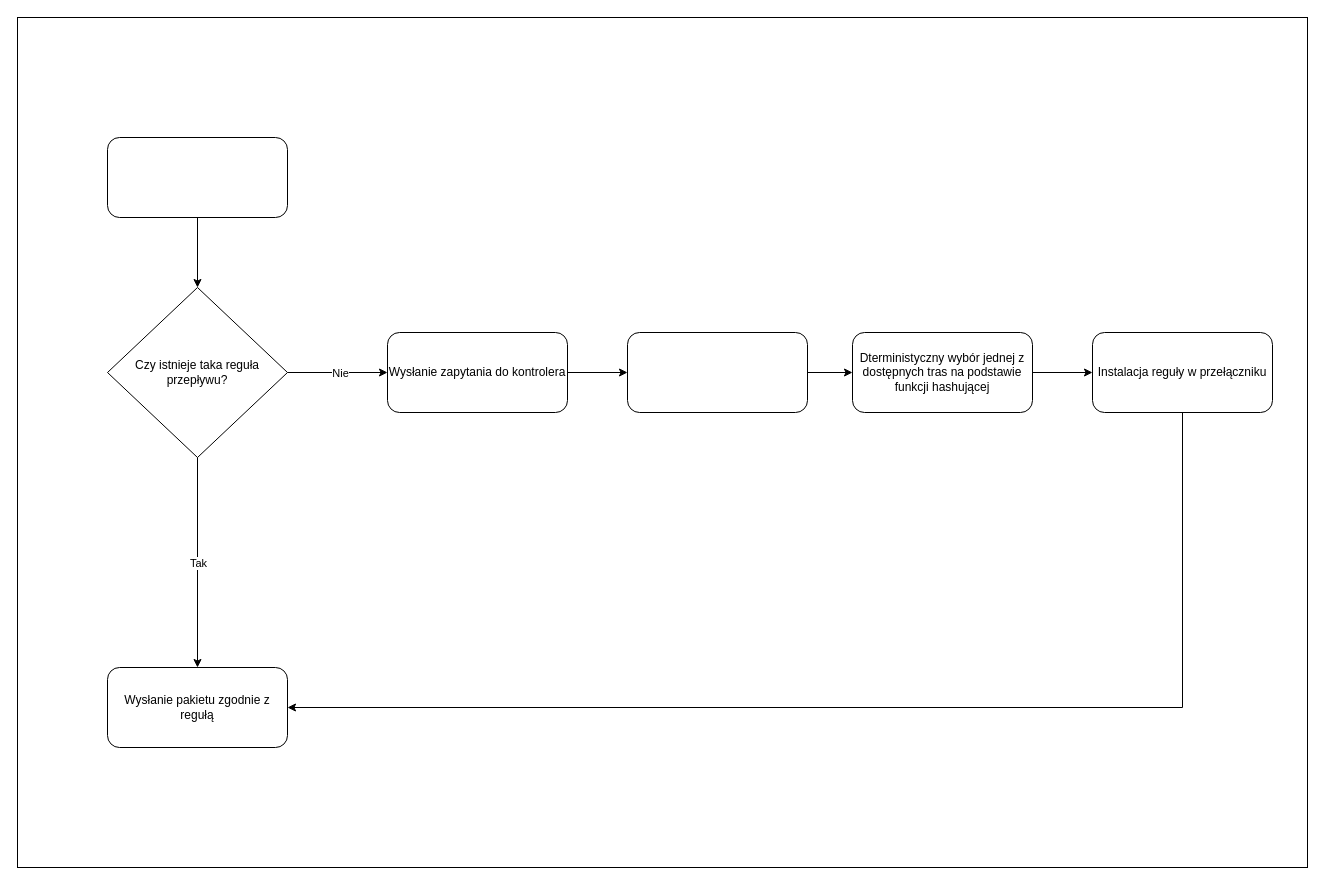
This 1325x885 diagram has some shape labels left out. The shapes that lost their labels are listed below. From the top down, each one's centre as x and y in pixels, then its label:
At (x=197, y=177): "Pakiet wysłany przez hosta trafia do przełącznika".
At (x=717, y=372): "Identyfikacja docelowego hosta oraz wyznaczenie dostępnych tras".
